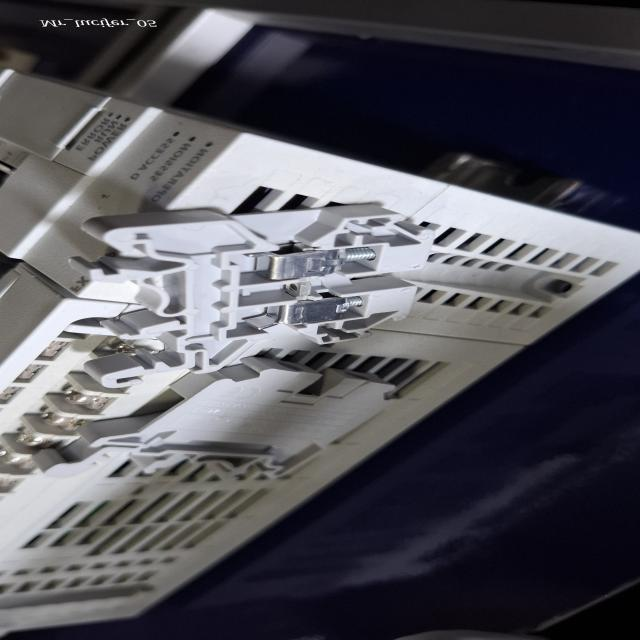Inverted: (31, 348, 494, 504)
Pass: (77, 195, 510, 388)
